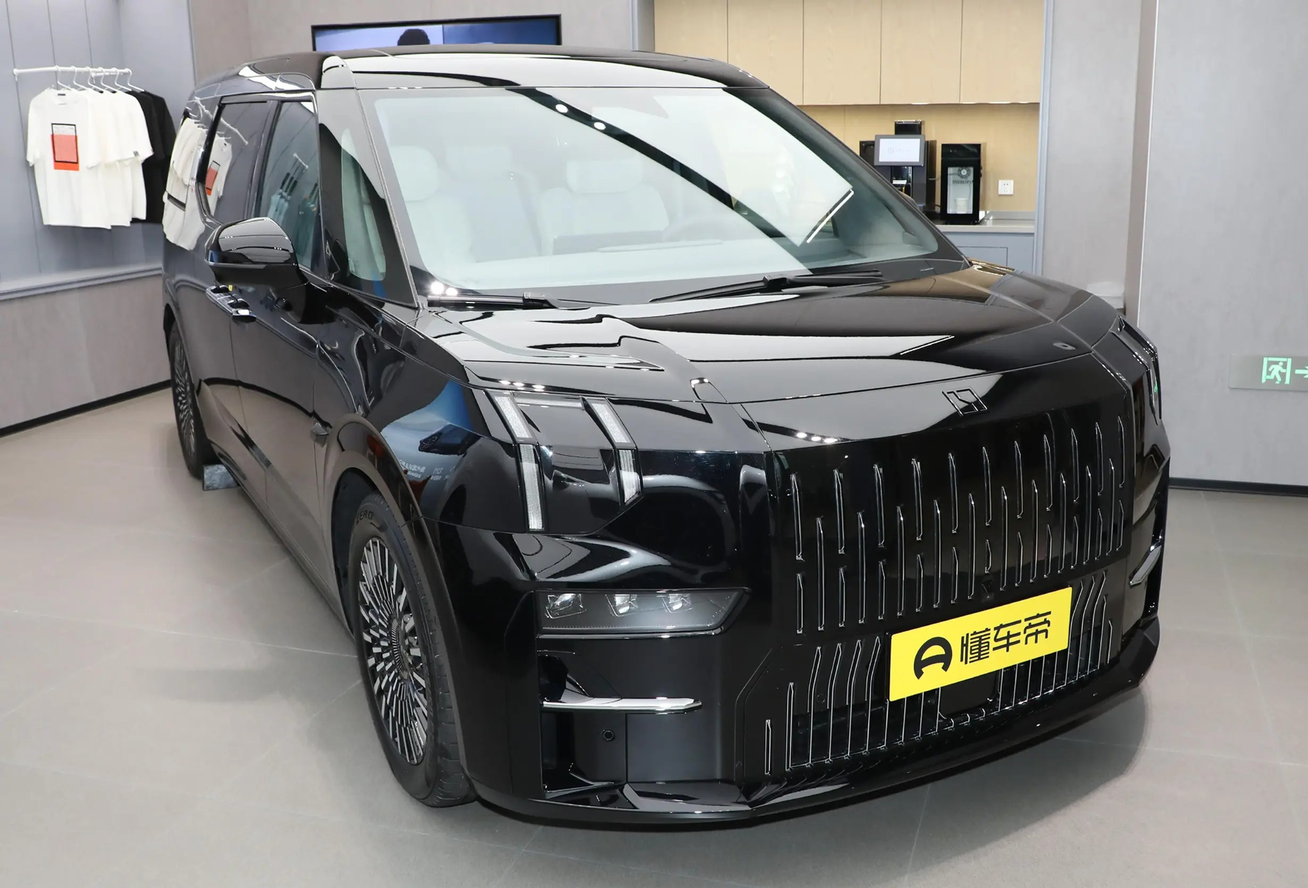ZEEKR: (942, 386, 988, 416)
